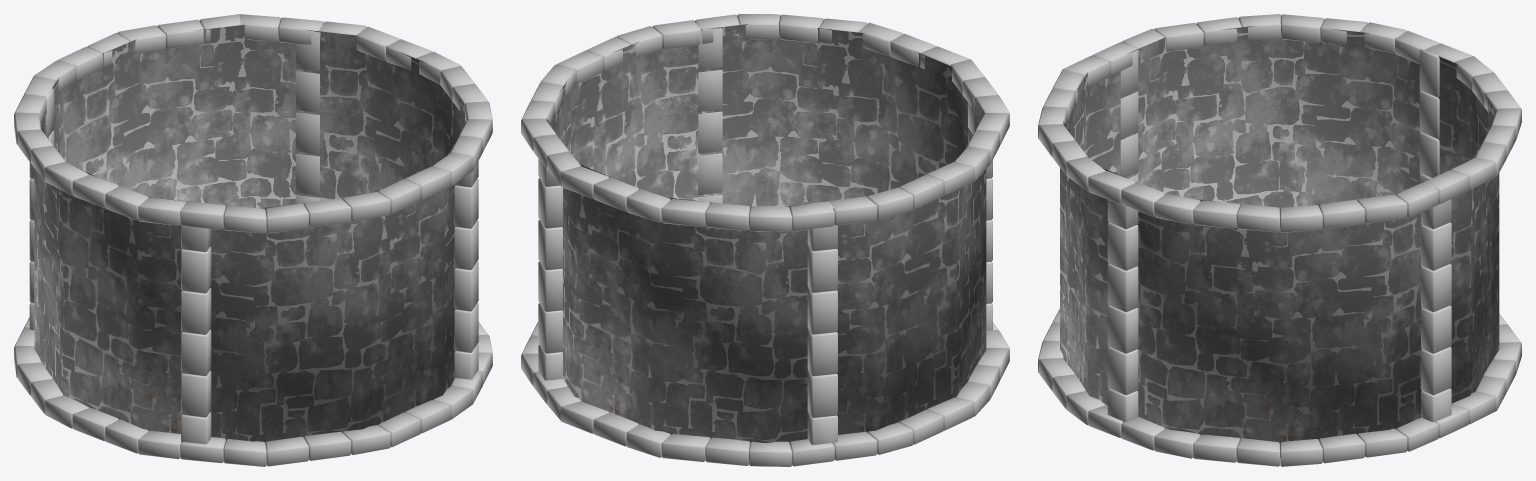
The model's file is Tower_Wall_Top.fbx.
3 views of the same model, side by side, from view 1: azimuth 30°, elevation 25°; view 2: azimuth 150°, elevation 25°; view 3: azimuth 270°, elevation 25° (orthographic).
Parts seen in each view (by area): view 1: Tower_Wall_Top.001; view 2: Tower_Wall_Top.001; view 3: Tower_Wall_Top.001.
Part boxes in pixels (x1,y1,x2,y2): Tower_Wall_Top.001: (14, 14, 492, 466); Tower_Wall_Top.001: (521, 14, 1009, 466); Tower_Wall_Top.001: (1038, 14, 1521, 466).
Size of the model in its own units: 8.8 by 5.02 by 8.81.
